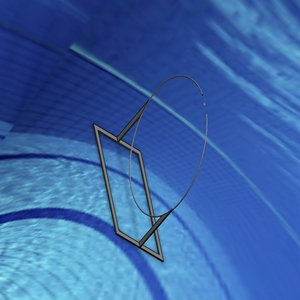circle: (92, 72, 209, 262)
